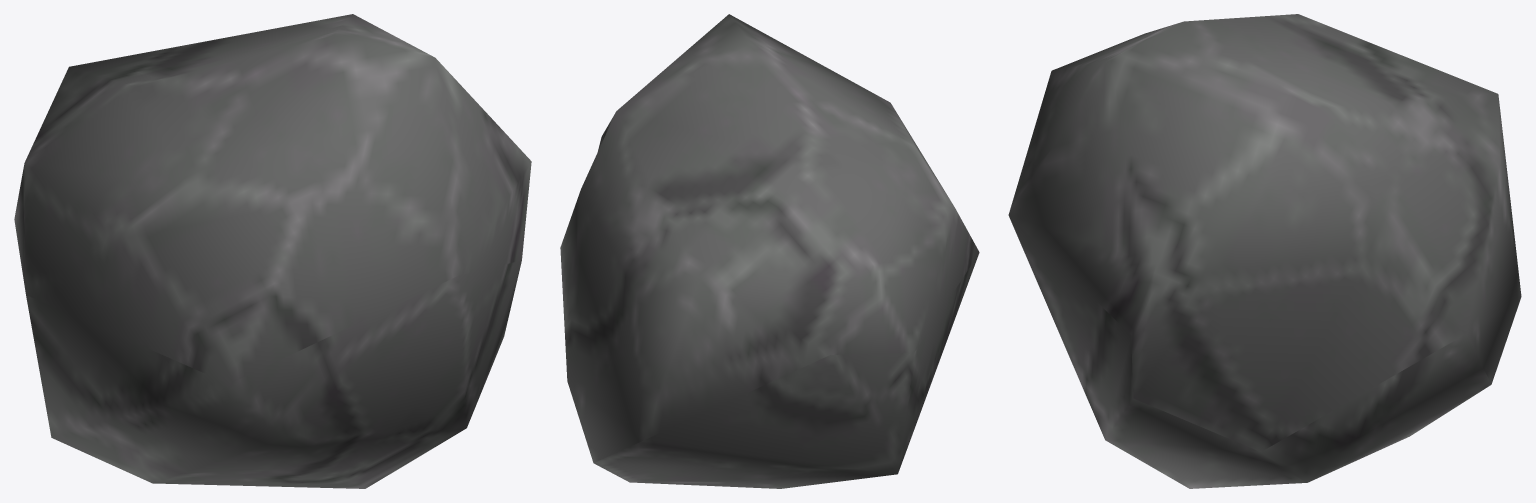
The model's file is rockSmall.fbx.
3 views of the same model, side by side, from view 1: azimuth 30°, elevation 25°; view 2: azimuth 150°, elevation 25°; view 3: azimuth 270°, elevation 25° (orthographic). The views are drawn at different scales.
Parts seen in each view (by area): view 1: rockSmall; view 2: rockSmall; view 3: rockSmall.
Boxes of the visible parts, bbox=[...] form: rockSmall: bbox=[14, 14, 531, 488]; rockSmall: bbox=[560, 14, 979, 488]; rockSmall: bbox=[1008, 14, 1521, 488].
Size of the model in its own units: 1.54 by 1.59 by 1.64.
1 material, 1 textured.
